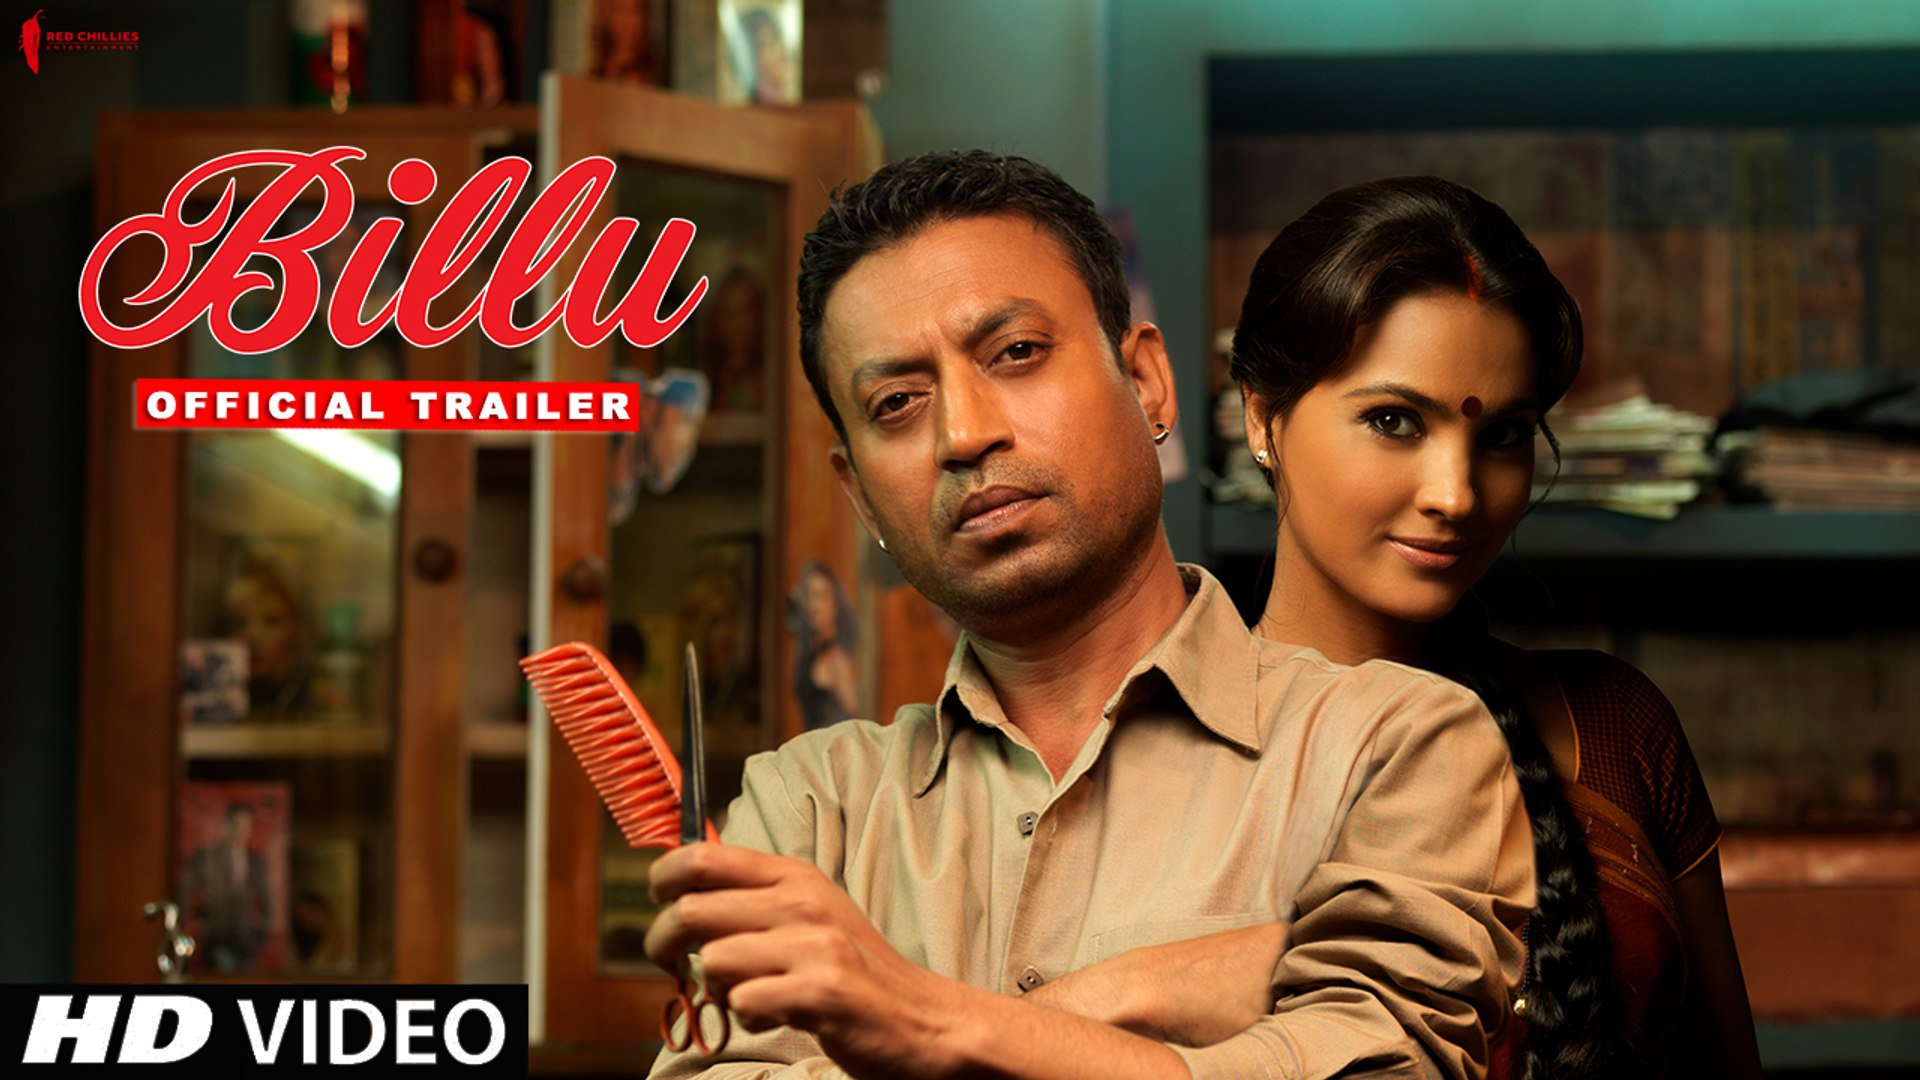noMask: (767, 163, 1208, 624), (1238, 166, 1608, 635)
